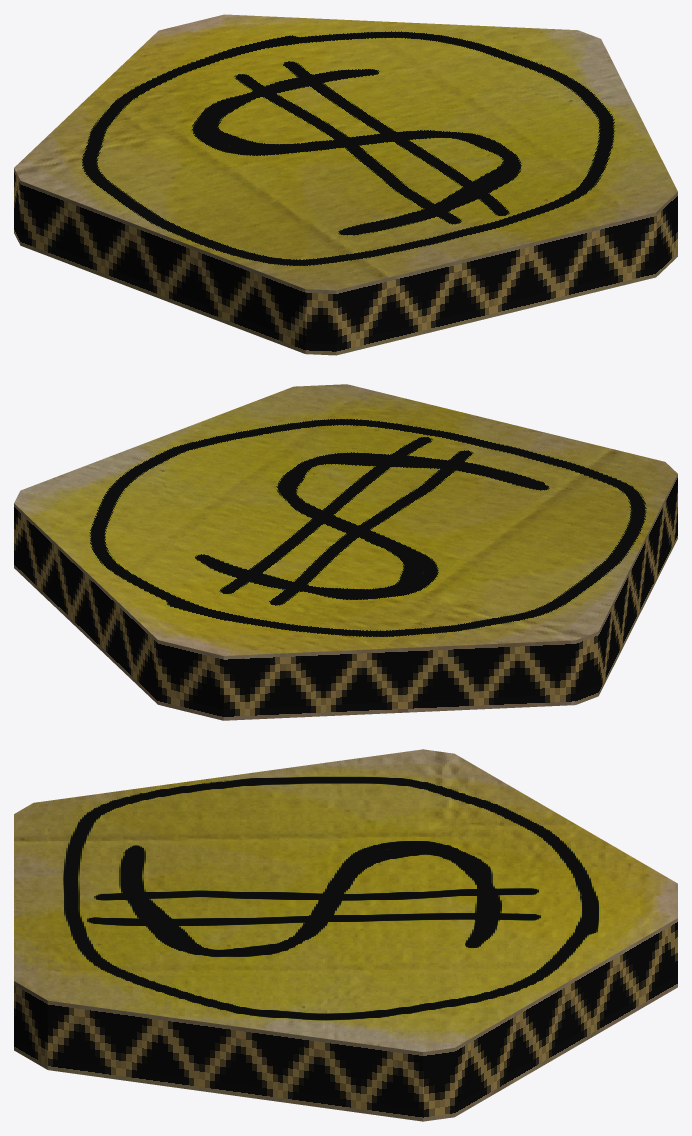
Rendered from CardCoins.glb.
3 renders of one model, top to bottom at view 1: azimuth 30°, elevation 25°; view 2: azimuth 150°, elevation 25°; view 3: azimuth 270°, elevation 25°, orthographic. The views are drawn at different scales.
Visible parts, largest first — view 1: Cylinder; view 2: Cylinder; view 3: Cylinder.
Boxes of the visible parts, bbox=[...] form: Cylinder: bbox=[14, 14, 677, 355]; Cylinder: bbox=[14, 384, 677, 720]; Cylinder: bbox=[14, 749, 677, 1121].
Bounding box in the file's own units: 1.87 × 0.2 × 1.73.
Materials: 1 (1 with a texture image).
